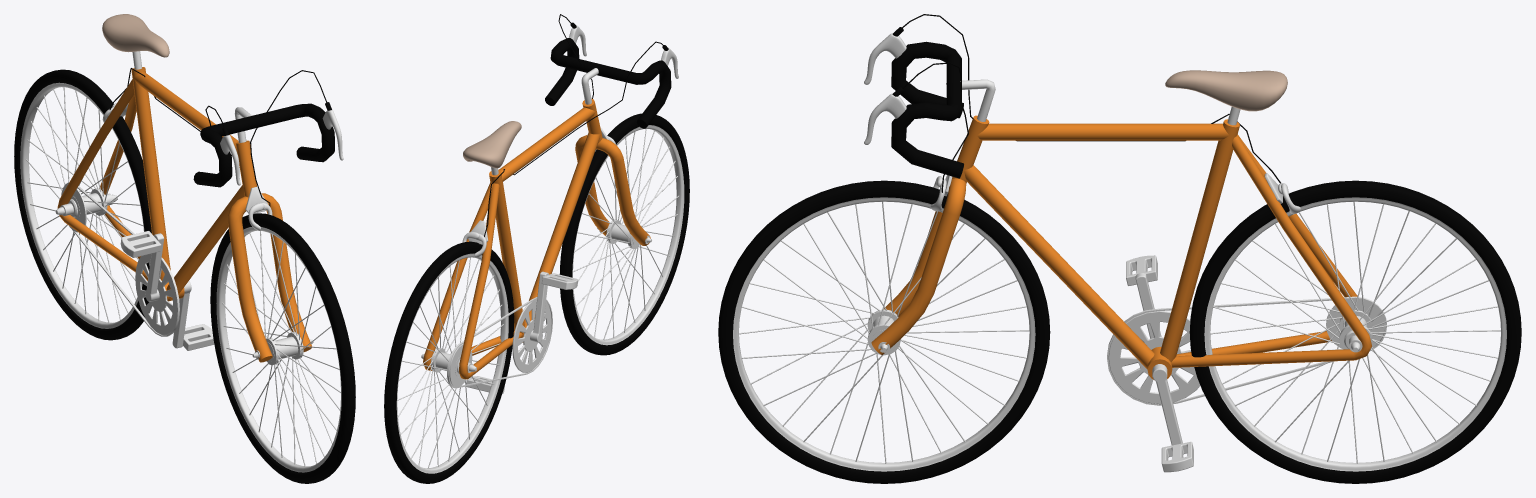
Rendered from 026-bike.fbx.
3 renders of one model, left to right at view 1: azimuth 30°, elevation 25°; view 2: azimuth 150°, elevation 25°; view 3: azimuth 270°, elevation 25°, orthographic. The views are drawn at different scales.
Visible parts, largest first — view 1: Circle, Circle.002, Plane.001, Bike, Circle.001, Vert.001, Circle.003, Plane.002, Circle.004, Cylinder.004, Cylinder.003, Circle.006 (+3 smaller); view 2: Circle.002, Circle, Plane.001, Bike, Circle.001, Vert.001, Circle.003, Circle.004, Plane.002, Cylinder.004, Circle.006, Cylinder (+4 smaller); view 3: Circle, Circle.002, Bike, Plane.001, Circle.001, Circle.003, Vert.001, Plane.002, Circle.004, Cylinder.003, Circle.006, Plane.003 (+3 smaller).
Part boxes in pixels (x1,y1,x2,y2): Circle: [210, 213, 355, 483]; Circle.002: [14, 69, 151, 340]; Plane.001: [57, 79, 311, 362]; Bike: [131, 67, 256, 299]; Circle.001: [222, 231, 340, 466]; Vert.001: [193, 103, 334, 187]; Circle.003: [25, 87, 143, 323]; Plane.002: [102, 14, 169, 57]; Circle.004: [135, 253, 177, 335]; Cylinder.004: [120, 231, 164, 301]; Cylinder.003: [172, 281, 214, 350]; Circle.006: [63, 182, 179, 336]; Circle.002: [384, 241, 514, 483]; Circle: [559, 113, 689, 355]; Plane.001: [423, 135, 650, 379]; Bike: [489, 98, 602, 333]; Circle.001: [573, 129, 679, 339]; Vert.001: [545, 38, 671, 128]; Circle.003: [397, 257, 503, 468]; Circle.004: [512, 299, 551, 372]; Plane.002: [463, 121, 521, 168]; Cylinder.004: [530, 271, 578, 342]; Circle.006: [447, 297, 552, 388]; Cylinder: [597, 219, 651, 249]; Circle: [718, 180, 1050, 483]; Circle.002: [1189, 180, 1521, 483]; Bike: [952, 115, 1239, 369]; Plane.001: [871, 134, 1371, 367]; Circle.001: [739, 201, 1029, 463]; Circle.003: [1210, 201, 1500, 463]; Vert.001: [891, 41, 963, 178]; Plane.002: [1165, 70, 1287, 111]; Circle.004: [1108, 311, 1200, 404]; Cylinder.003: [1152, 364, 1193, 472]; Circle.006: [1107, 296, 1386, 405]; Plane.003: [864, 33, 906, 144].
Size of the model in its own units: 123 by 386 by 626.
